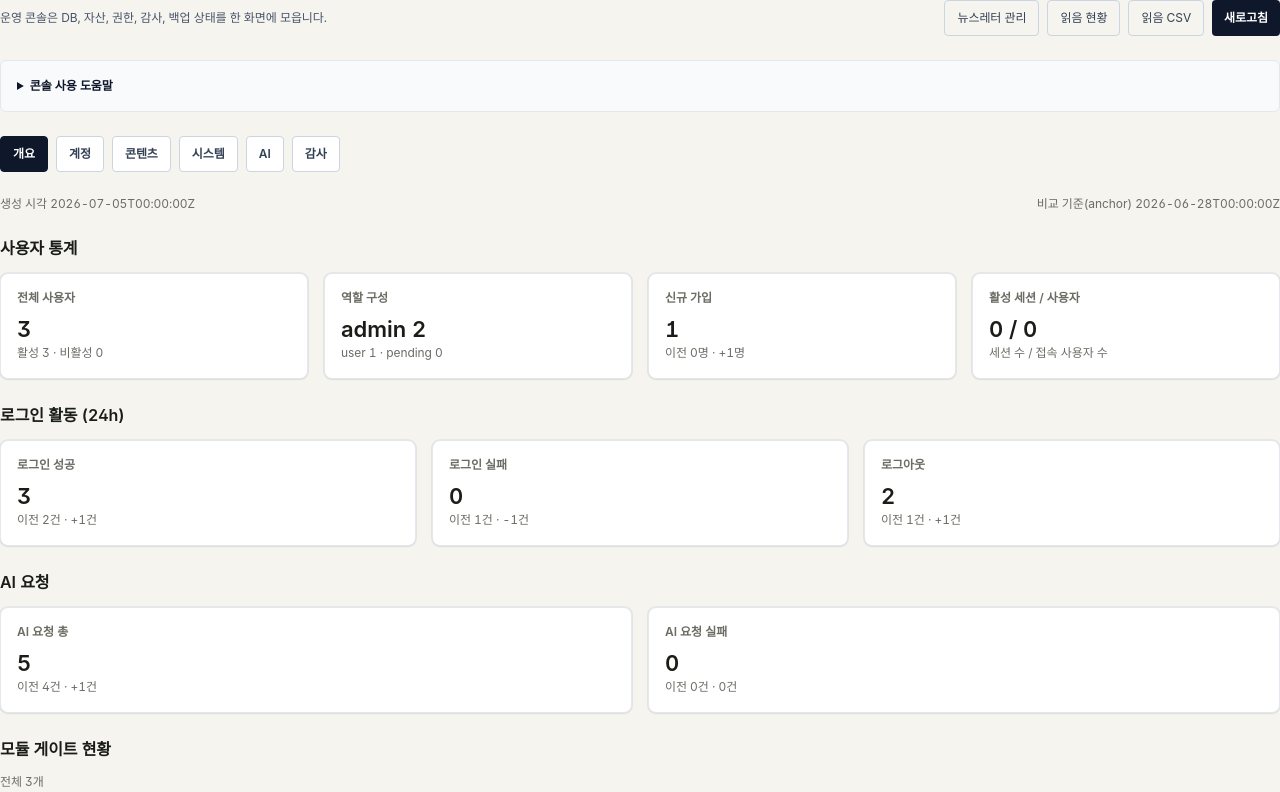
Users 섹션은 데이터 없음(빈 목록)과 조회 실패(degraded)를 시각적으로 구분한다
The width and height of the screenshot is (1280, 792).
Click the tab "계정": click(80, 154) [56,136,104,172]
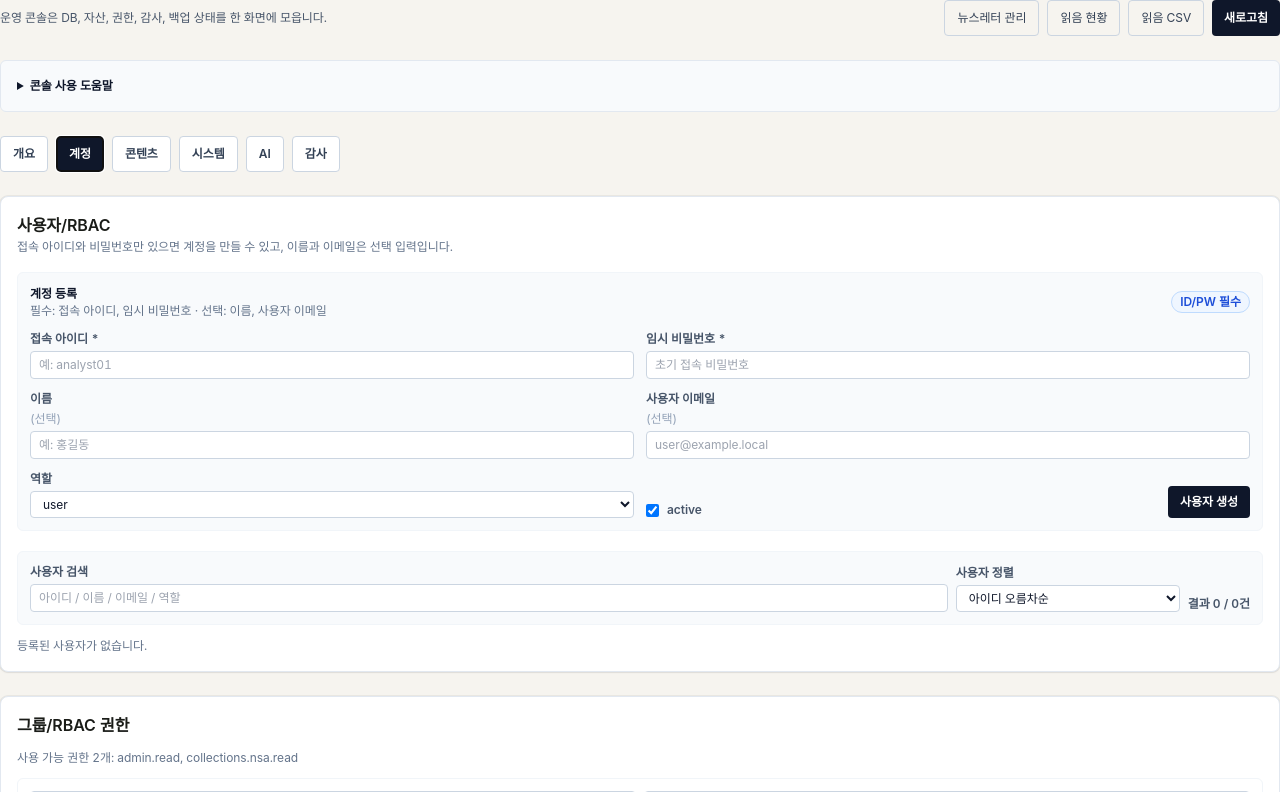
expect the text "등록된 사용자가 없습니다." is shown: met, box [17,638,147,653]
